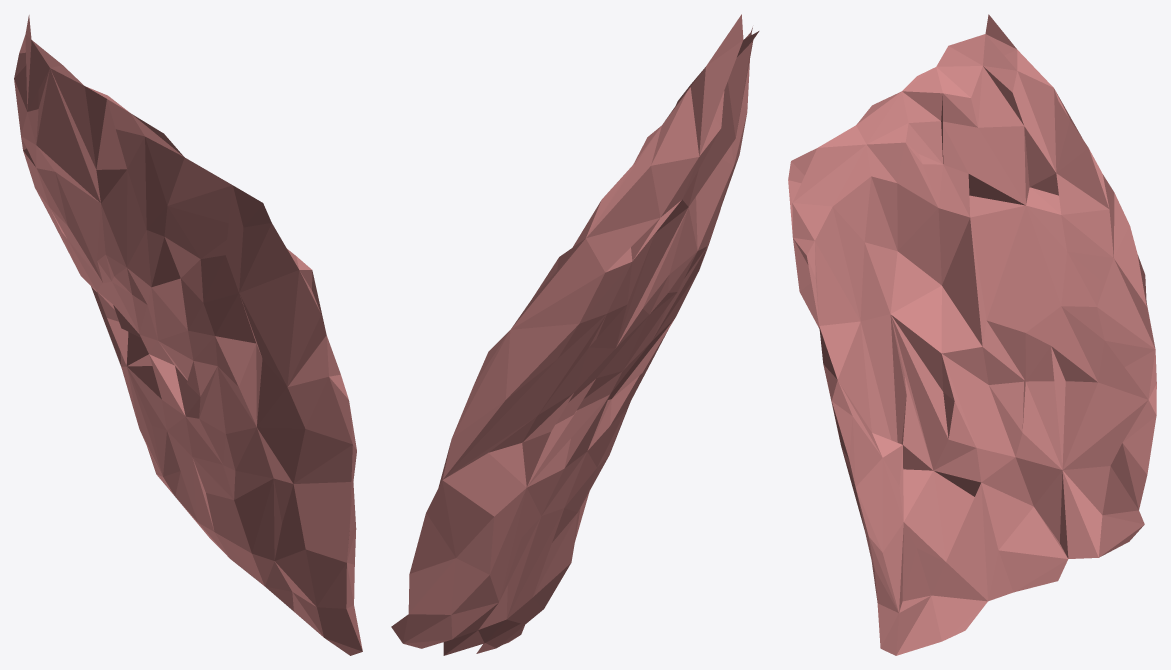
The model's file is Superficial_part_of_masseter.r.glb.
3 renders of one model, left to right at view 1: azimuth 30°, elevation 25°; view 2: azimuth 150°, elevation 25°; view 3: azimuth 270°, elevation 25°, orthographic. The views are drawn at different scales.
Visible parts, largest first — view 1: Superficial_part_of_masseter.r; view 2: Superficial_part_of_masseter.r; view 3: Superficial_part_of_masseter.r.
Boxes of the visible parts, bbox=[...] form: Superficial_part_of_masseter.r: bbox=[14, 15, 362, 655]; Superficial_part_of_masseter.r: bbox=[391, 14, 759, 655]; Superficial_part_of_masseter.r: bbox=[788, 14, 1156, 655].
Bounding box in the file's own units: 0.0258 × 0.0613 × 0.0381.
